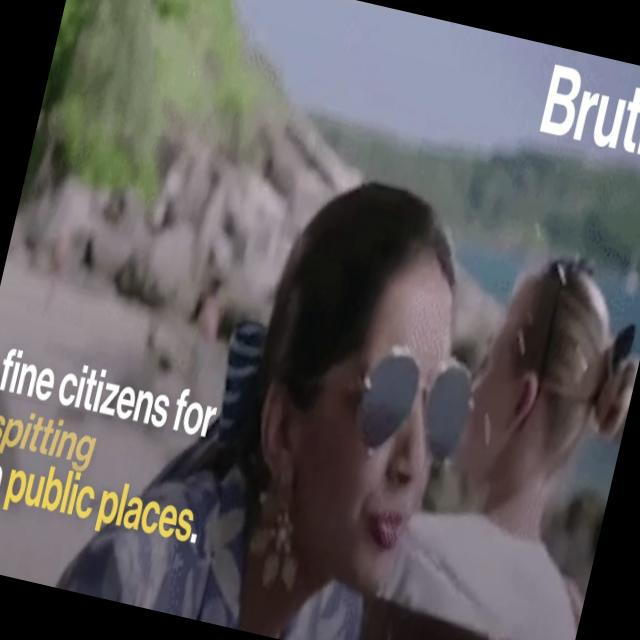spit: (293, 278, 540, 640)
